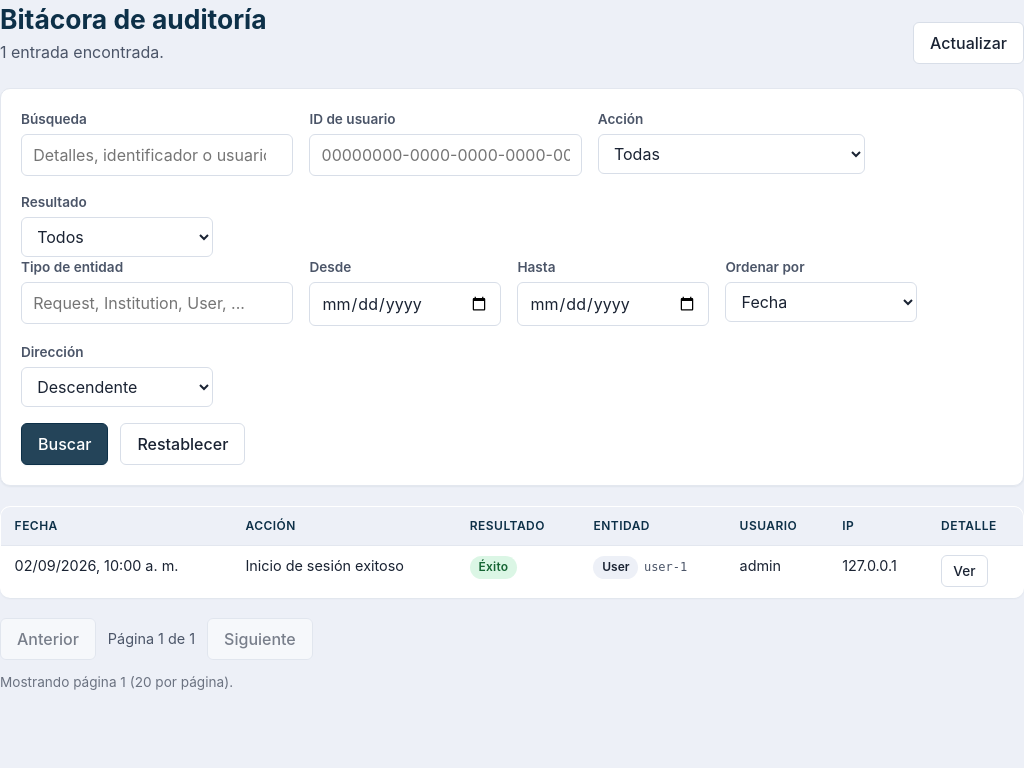
AuditLogPage › opens the detail modal when the detail button is clicked
Click the button "Ver".
click(964, 571)  # box [941, 555, 988, 587]
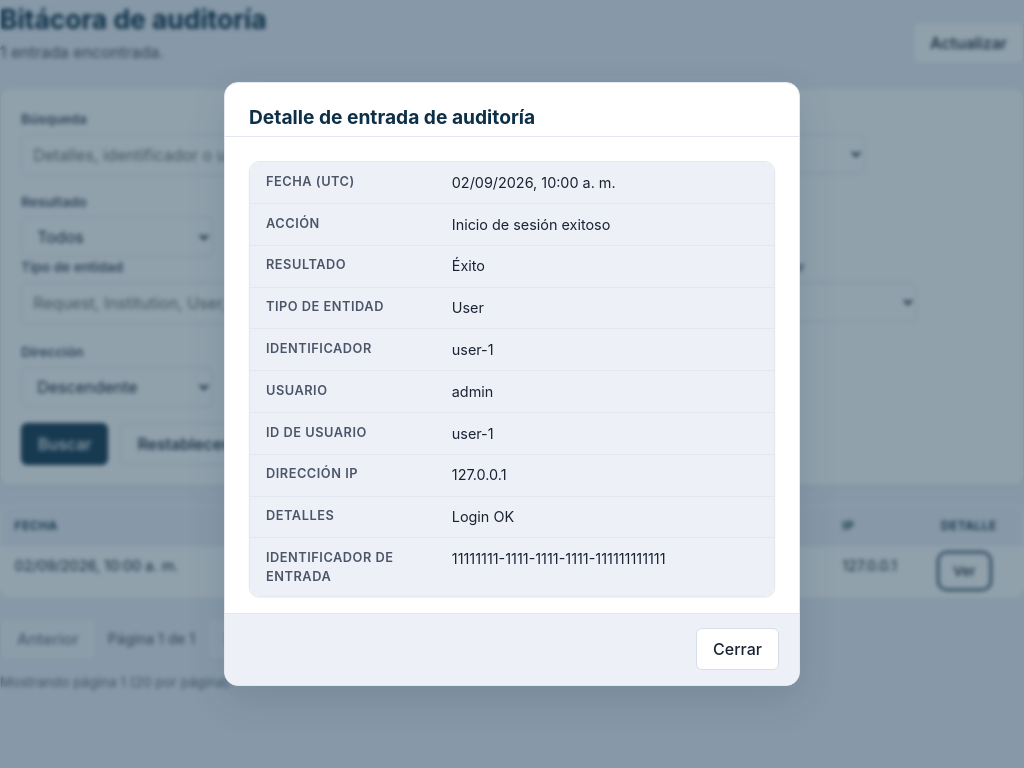
Now the dialog shows "Detalle de entrada de auditoría", box [249, 105, 535, 129]
Now the dialog shows "admin", box [452, 383, 493, 400]
Now the dialog shows "127.0.0.1", box [452, 466, 506, 483]
